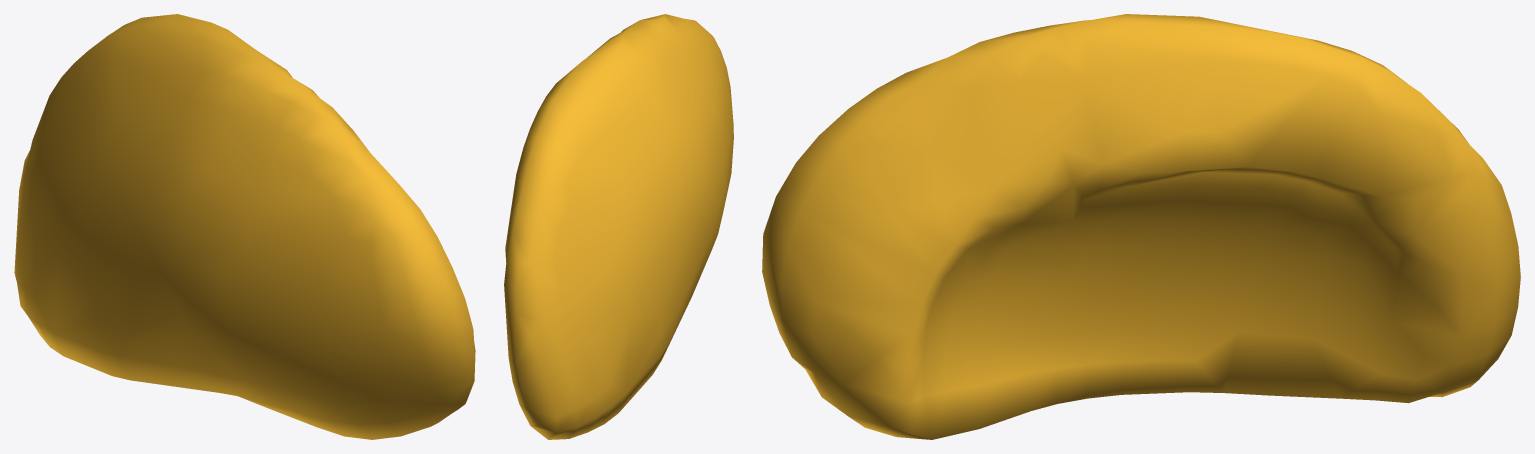
Rendered from nervoso-putamen-r.glb.
3 views of the same model, side by side, from view 1: azimuth 30°, elevation 25°; view 2: azimuth 150°, elevation 25°; view 3: azimuth 270°, elevation 25° (orthographic). The views are drawn at different scales.
Parts seen in each view (by area): view 1: Putamen.r; view 2: Putamen.r; view 3: Putamen.r.
Boxes of the visible parts, box(x1,y1,x2,y2) form: Putamen.r: box(14, 14, 475, 439); Putamen.r: box(504, 14, 733, 439); Putamen.r: box(762, 14, 1520, 439).
Size of the model in its own units: 0.0176 by 0.0252 by 0.0416.
